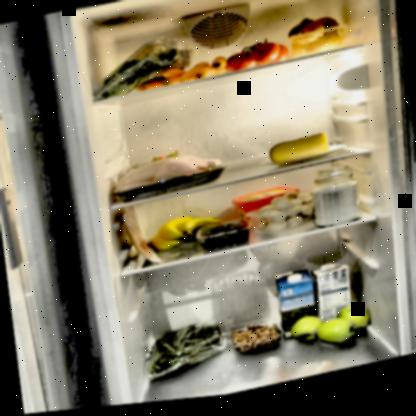apple: (288, 305, 376, 359)
banana: (147, 210, 228, 257)
butter: (229, 186, 303, 238)
carrot: (135, 58, 229, 98)
cheese: (266, 135, 332, 172)
chicken: (110, 149, 228, 206)
green_beans: (138, 316, 232, 384)
milk: (270, 271, 322, 349), (314, 265, 356, 337)
mushrooms: (242, 189, 328, 241)
onion: (285, 14, 344, 65)
shrimp: (230, 323, 280, 359)
spinach: (87, 33, 196, 105)
tomato: (224, 37, 294, 79)
